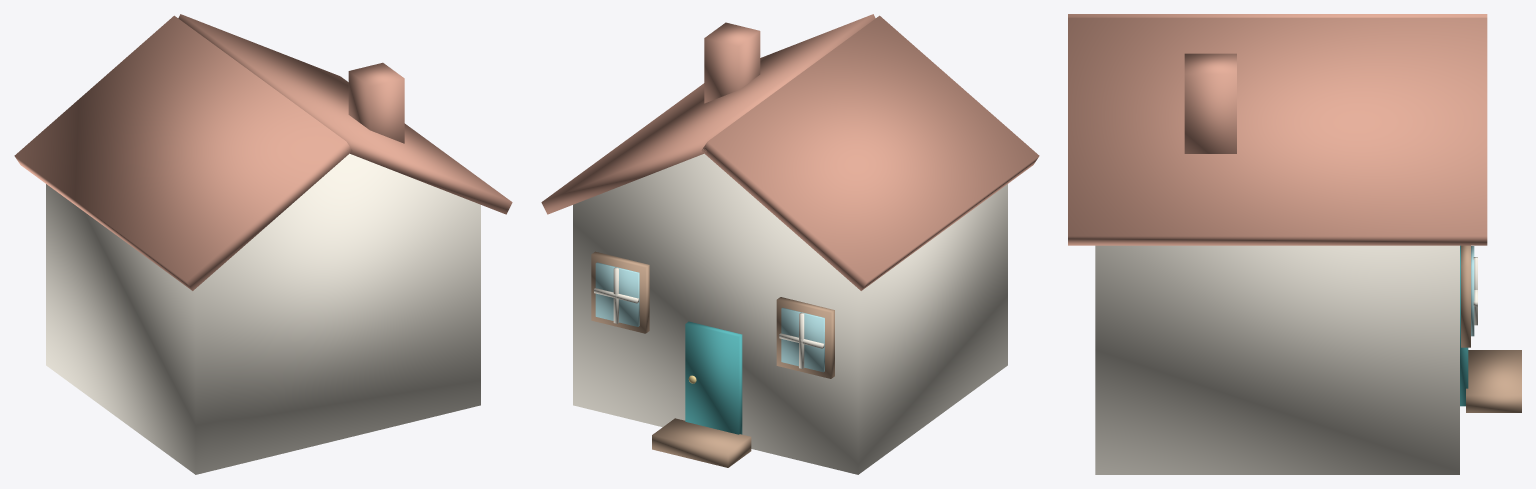
The model's file is house_cottage.glb.
The picture shows the model from 3 angles, left to right: view 1: azimuth 30°, elevation 25°; view 2: azimuth 150°, elevation 25°; view 3: azimuth 270°, elevation 25°; orthographic projection. The views are drawn at different scales.
Parts seen in each view (by area): view 1: plaster_gable_walls, roof_slope_-1, roof_slope_1, chimney; view 2: plaster_gable_walls, roof_slope_-1, roof_slope_1, front_door, chimney, doorstep, window_glass_1, window_glass_0, window_frame_0, window_frame_1; view 3: roof_slope_1, plaster_gable_walls, chimney, doorstep, roof_slope_-1, window_frame_1, front_door.
Boxes of the visible parts, x1,y1,x2,y2 form: plaster_gable_walls: (46,153,480,474); roof_slope_-1: (14,15,352,290); roof_slope_1: (178,14,512,214); chimney: (348,62,404,143); plaster_gable_walls: (573,153,1007,474); roof_slope_-1: (701,15,1039,290); roof_slope_1: (541,14,875,214); front_door: (685,321,742,434); chimney: (704,22,760,103); doorstep: (652,418,751,467); window_glass_1: (595,262,639,326); window_glass_0: (781,307,824,372); window_frame_0: (776,297,834,378); window_frame_1: (591,251,649,333); roof_slope_1: (1068,17,1487,245); plaster_gable_walls: (1095,245,1459,474); chimney: (1184,53,1236,153); doorstep: (1466,350,1521,412); roof_slope_-1: (1068,14,1487,17); window_frame_1: (1461,245,1470,347); front_door: (1460,245,1468,406).
Size of the model in its own units: 3.77 by 3.42 by 3.74.
